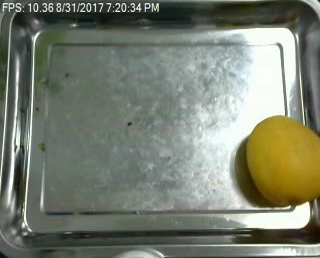Mango: (238, 111, 320, 203)
